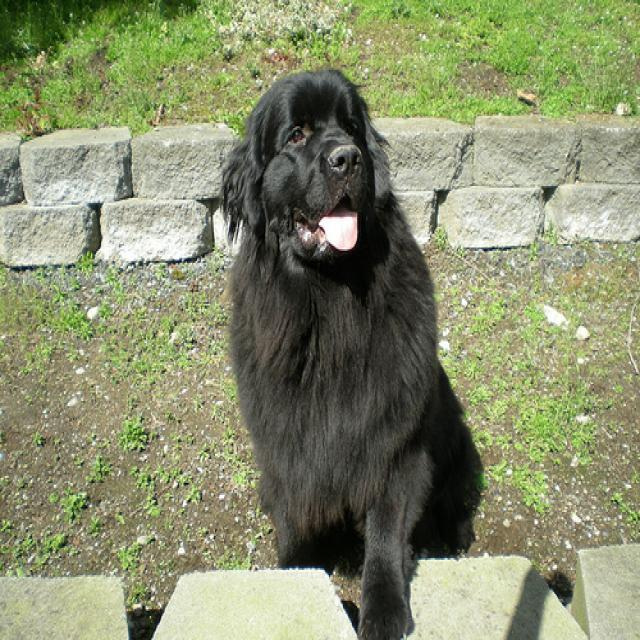dog: (230, 68, 386, 258)
